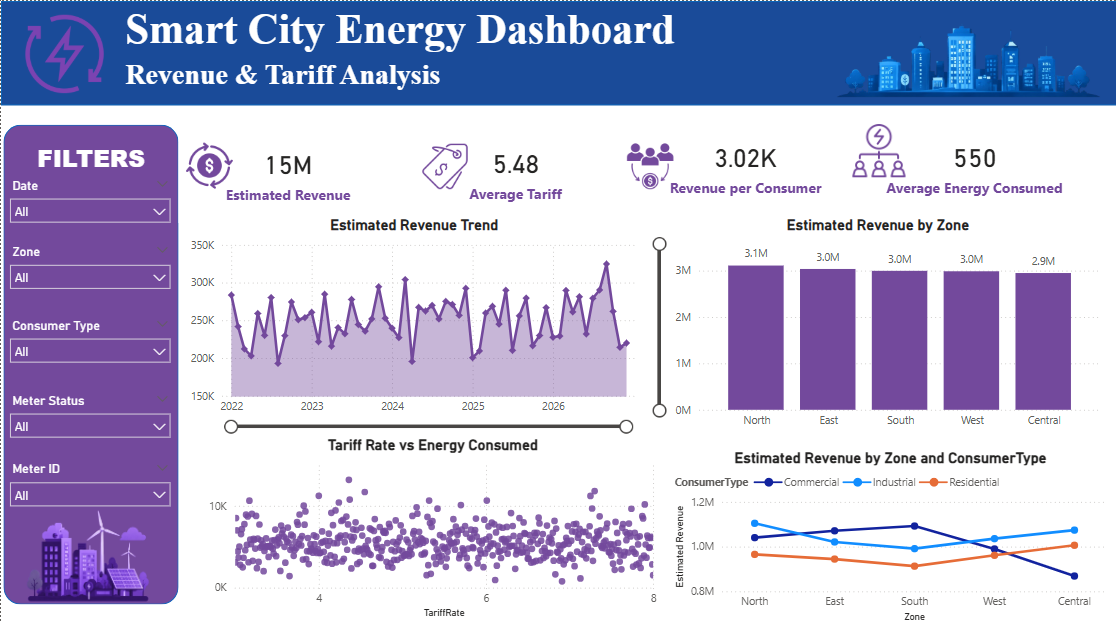

This screenshot's page, from the dashboard's own definition file:
{"tool":"powerbi","page":{"name":"Revenue & Tariff Analysis","canvas":[1280,720],"ordinal":2},"visuals":[{"type":"shape","box":[0,0,1279.7,119.2],"z":0},{"type":"shape","box":[3.3,141.7,200,548.3],"z":1000},{"type":"card","fields":{"Values":["Measure.Estimated Revenue"]},"box":[203.4,139.9,251,114],"z":2000},{"type":"card","fields":{"Values":["Measure.Average Tariff"]},"box":[463.1,138.5,251,114],"z":3000},{"type":"card","fields":{"Values":["Measure.Revenue per Consumer"]},"box":[725.7,131.3,251,114],"z":4000},{"type":"card","fields":{"Values":["Measure.Average Energy Consumed"]},"box":[986.8,131.3,251,114],"z":5000},{"type":"areaChart","title":"Estimated Revenue Trend","fields":{"Category":["Smart City Energy.Date.Variation.Date Hierarchy.Year","Smart City Energy.Date.Variation.Date Hierarchy.Month"],"Y":["Measure.Estimated Revenue"]},"box":[211.7,245,521.7,251.7],"z":6000},{"type":"columnChart","fields":{"Category":["Smart City Energy.Zone"],"Y":["Measure.Estimated Revenue"]},"box":[741.7,245,521.7,251.7],"z":7000},{"type":"scatterChart","title":"Tariff Rate vs Energy Consumed","fields":{"X":["Smart City Energy.TariffRate"],"Y":["Measure.Total Energy Consumed"]},"box":[233.3,496.7,521.7,213.3],"z":8000},{"type":"lineChart","fields":{"Category":["Smart City Energy.Zone"],"Series":["Smart City Energy.ConsumerType"],"Y":["Measure.Estimated Revenue"]},"box":[770,511.7,493.3,198.3],"z":9000},{"type":"textbox","box":[137,0,740.4,81.9],"z":10000},{"type":"textbox","box":[137,60.5,558.9,60.5],"z":11000},{"type":"textbox","box":[21.7,155,163.3,61.7],"z":12000},{"type":"image","box":[945,0,320,141.7],"z":13000},{"type":"slicer","fields":{"Values":["Smart City Energy.Date Hierarchy.Date","Smart City Energy.Date Hierarchy.Year","Smart City Energy.Date Hierarchy.Month","Smart City Energy.Date Hierarchy.Quarter"]},"box":[0,197.7,203.4,89.5],"z":14000},{"type":"slicer","fields":{"Values":["Smart City Energy.Zone"]},"box":[0,273.3,203.3,86.7],"z":15000},{"type":"slicer","fields":{"Values":["Smart City Energy.ConsumerType"]},"box":[0,356.7,203.3,86.7],"z":16000},{"type":"slicer","fields":{"Values":["Smart City Energy.MeterStatus"]},"box":[0,443.3,203.3,86.7],"z":17000},{"type":"slicer","fields":{"Values":["Smart City Energy.MeterID"]},"box":[0,520.8,203.4,88],"z":18000},{"type":"image","box":[21.6,15.9,102.4,89.5],"z":18001},{"type":"image","box":[18.8,572.8,164.5,116.9],"z":18002},{"type":"image","box":[212.1,158.7,53.4,59.2],"z":18003},{"type":"image","box":[481.9,154.4,51.9,69.3],"z":18004},{"type":"image","box":[714.2,145.7,54.8,86.6],"z":18005},{"type":"image","box":[968.1,131.3,69.3,79.4],"z":18006}]}

Visuals, with their boxes in screenshot pixels (x1, y1, x2, y2), scaled from the page's 1280x720 canvas onto the 1116x622 screenshot:
shape: box(0, 0, 1115, 103)
shape: box(3, 122, 177, 596)
card - Measure.Estimated Revenue: box(177, 121, 396, 219)
card - Measure.Average Tariff: box(404, 120, 623, 218)
card - Measure.Revenue per Consumer: box(633, 113, 852, 212)
card - Measure.Average Energy Consumed: box(860, 113, 1079, 212)
"Estimated Revenue Trend" areaChart: box(185, 212, 639, 429)
columnChart - Smart City Energy.Zone x Measure.Estimated Revenue: box(647, 212, 1102, 429)
"Tariff Rate vs Energy Consumed" scatterChart: box(203, 429, 658, 613)
lineChart - Smart City Energy.Zone x Smart City Energy.ConsumerType: box(671, 442, 1101, 613)
textbox: box(119, 0, 765, 71)
textbox: box(119, 52, 607, 105)
textbox: box(19, 134, 161, 187)
image: box(824, 0, 1103, 122)
slicer - Smart City Energy.Date Hierarchy.Date x Smart City Energy.Date Hierarchy.Year: box(0, 171, 177, 248)
slicer - Smart City Energy.Zone: box(0, 236, 177, 311)
slicer - Smart City Energy.ConsumerType: box(0, 308, 177, 383)
slicer - Smart City Energy.MeterStatus: box(0, 383, 177, 458)
slicer - Smart City Energy.MeterID: box(0, 450, 177, 526)
image: box(19, 14, 108, 91)
image: box(16, 495, 160, 596)
image: box(185, 137, 231, 188)
image: box(420, 133, 465, 193)
image: box(623, 126, 670, 201)
image: box(844, 113, 904, 182)
